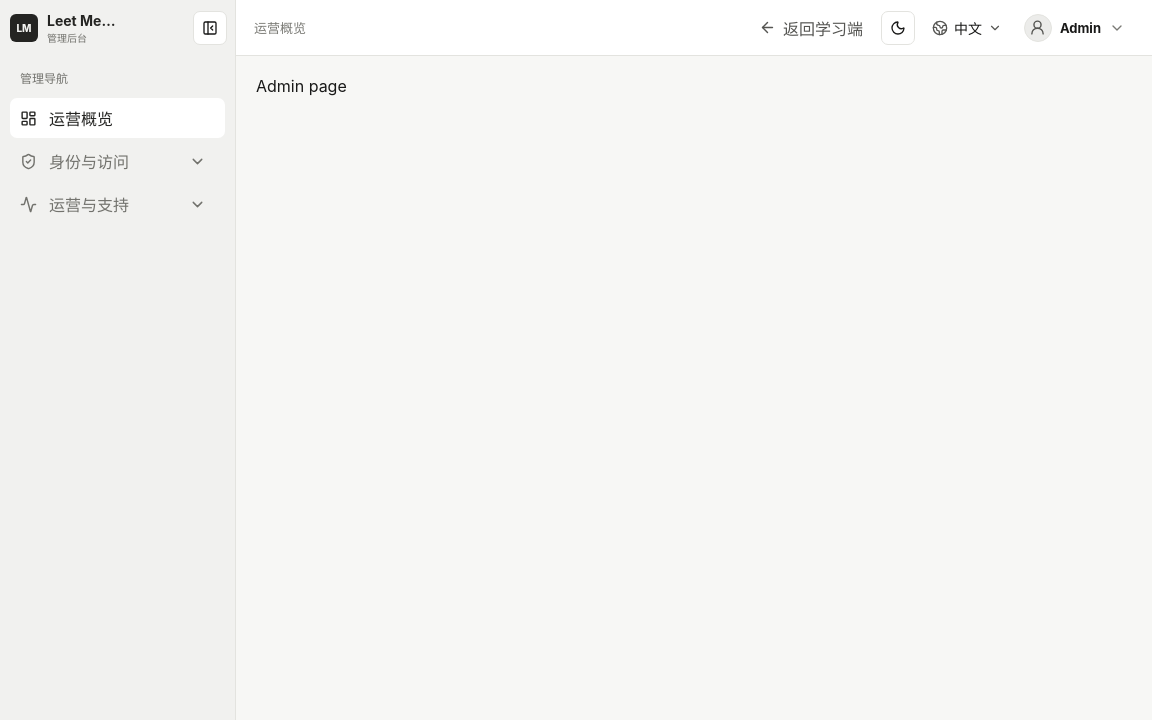
Test: AdminShell › places the workspace brand in the sidebar and toggles the desktop sidebar
The image size is (1152, 720).
Expected: the text "LM" is shown, left=10, top=14, right=38, bottom=42
Expected: the text "Leet Mentor" is shown, left=47, top=12, right=116, bottom=28
Click the button named "折叠左侧栏".
click(210, 28)  # box left=193, top=11, right=227, bottom=45
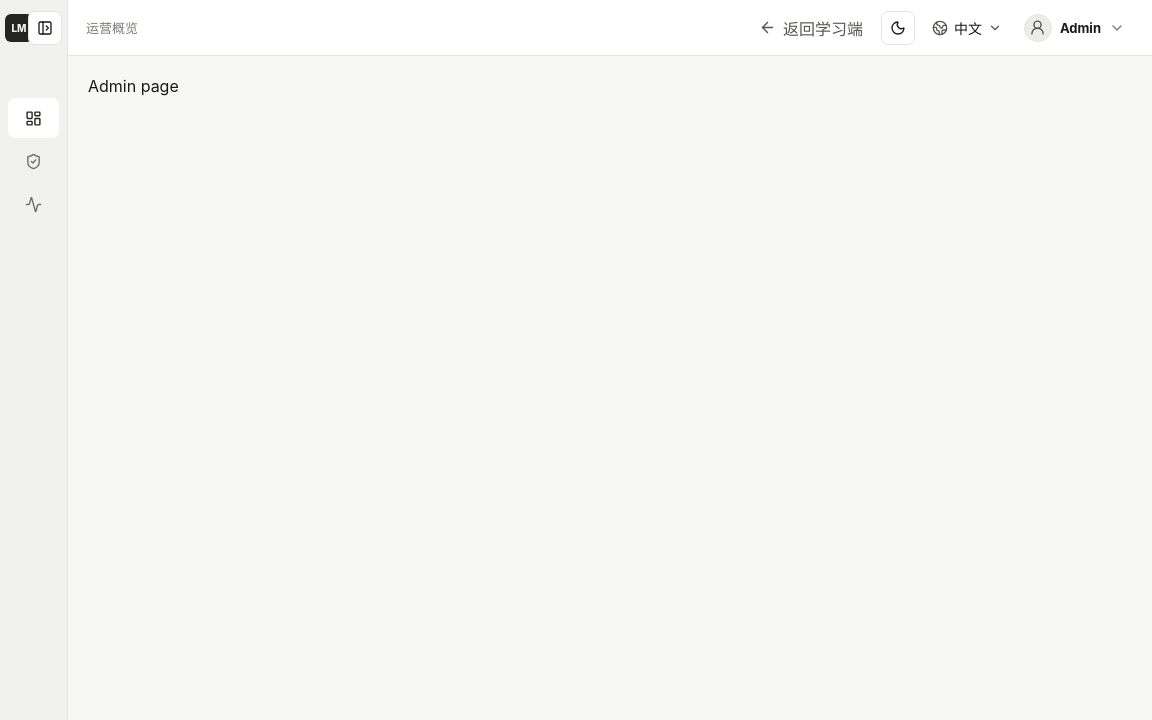
Expected: the button named "展开左侧栏" is collapsed, left=28, top=11, right=62, bottom=45
